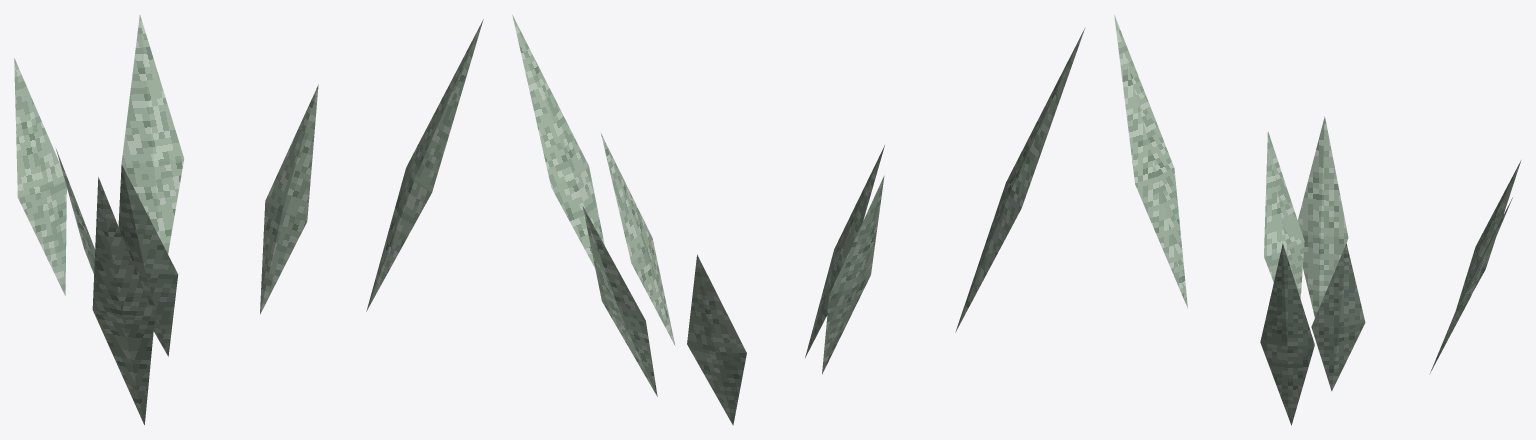
The model's file is grass_snow.glb.
3 renders of one model, left to right at view 1: azimuth 30°, elevation 25°; view 2: azimuth 150°, elevation 25°; view 3: azimuth 270°, elevation 25°, orthographic. The views are drawn at different scales.
Visible parts, largest first — view 1: Body.024; view 2: Body.024; view 3: Body.024.
Part boxes in pixels (x1,y1,x2,y2): Body.024: [14, 15, 483, 424]; Body.024: [512, 15, 1085, 425]; Body.024: [1114, 15, 1521, 425].
Bounding box in the file's own units: 0.4322 × 0.2584 × 0.3705.
1 material, 1 textured.
